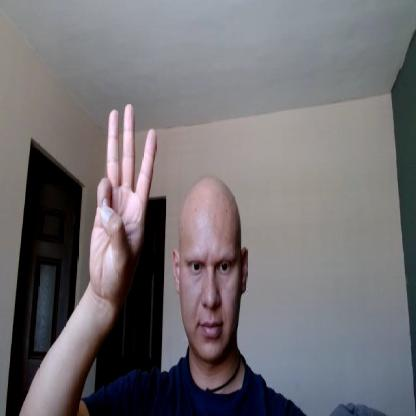W: (88, 101, 158, 297)
